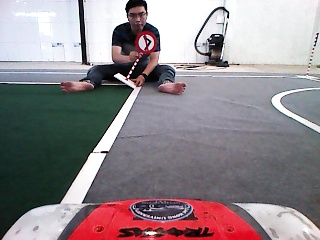ban: (134, 30, 157, 55)
